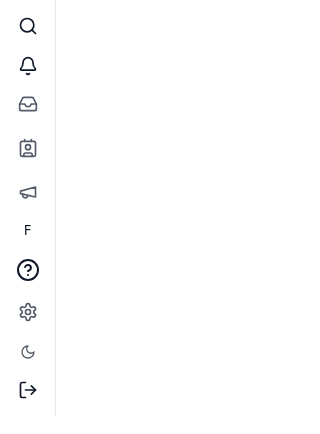
Scenario: Sidebar rail › opens the workspace switcher and selects another membership
The width and height of the screenshot is (320, 434).
Click the button named "Switch workspace" at (28, 230), box [10, 212, 46, 248]
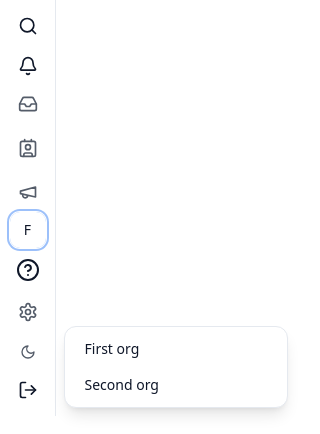
Check: the menu item "First org" is shown, box [68, 331, 282, 367]
Check: the menu item "Second org" is shown
Click the menu item "Second org" at (176, 385), box [68, 367, 282, 403]
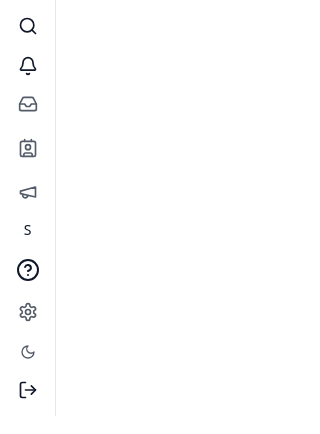
Check: the menu "Workspaces" is gone
Check: the button named "Switch workspace" reads "S", box [10, 212, 46, 248]
